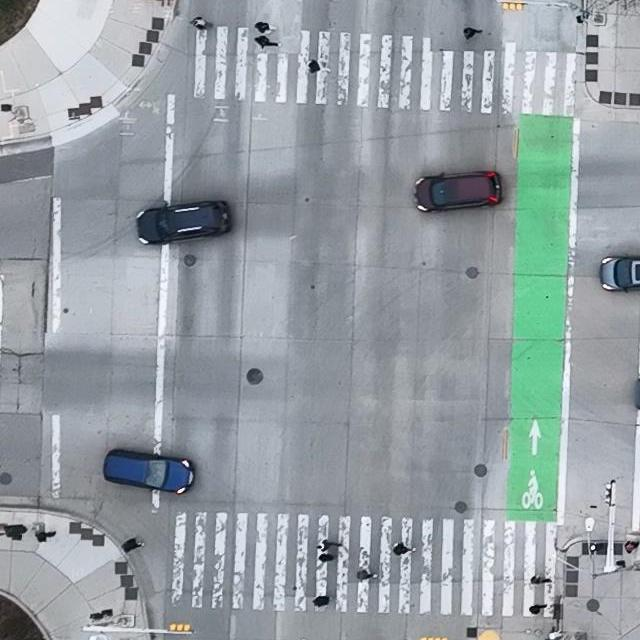car: (136, 197, 233, 246), (103, 447, 195, 494), (414, 172, 501, 212), (600, 253, 640, 293)
